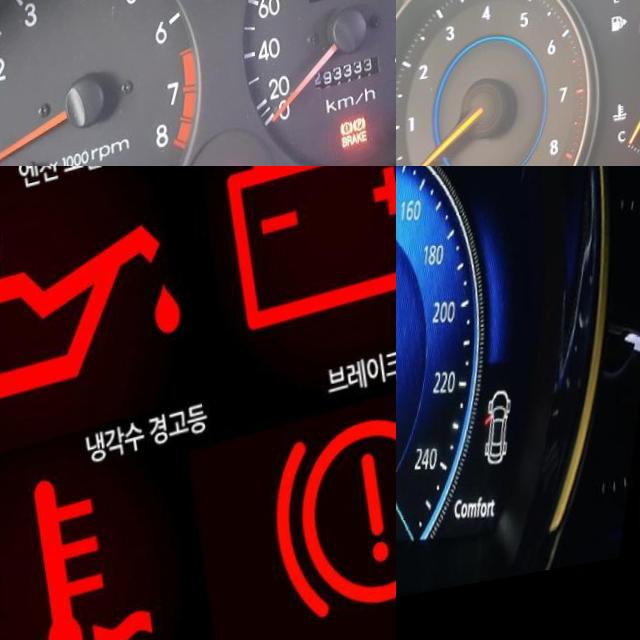Engine cooling system: (0, 460, 155, 640)
